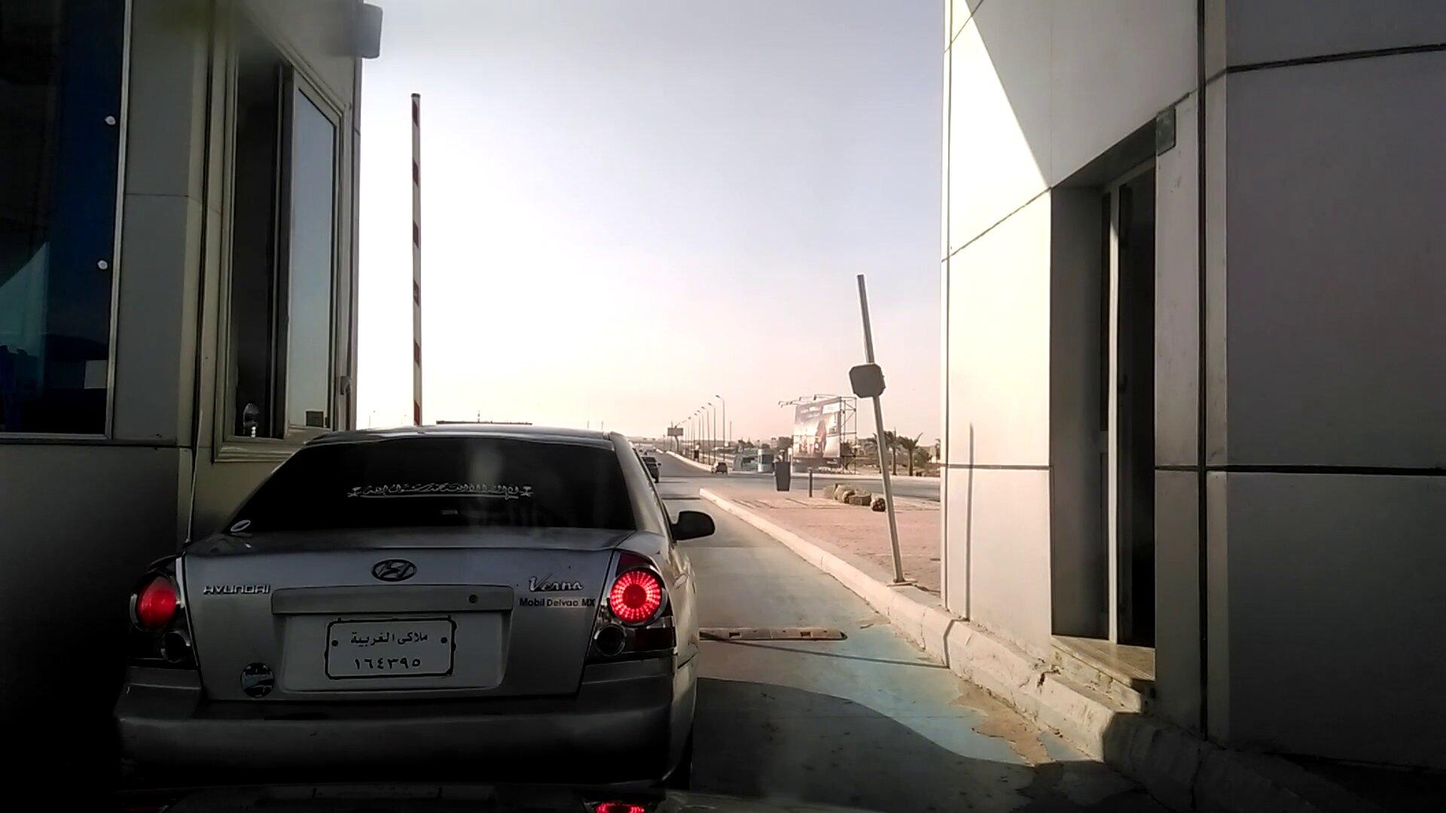Bump: (700, 612, 860, 670)
